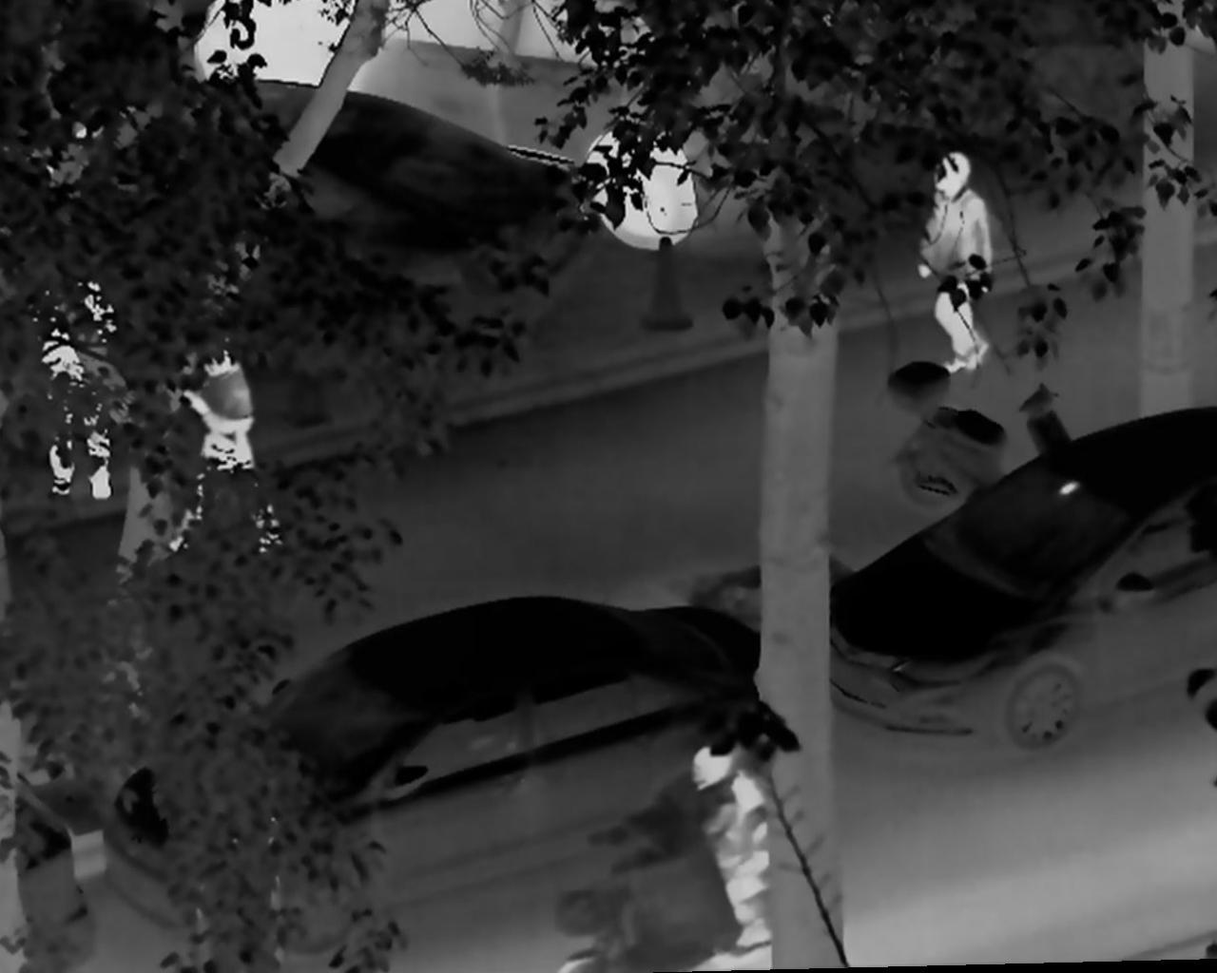person: (166, 340, 285, 561), (18, 254, 122, 505), (910, 145, 1009, 381), (673, 736, 771, 968)
